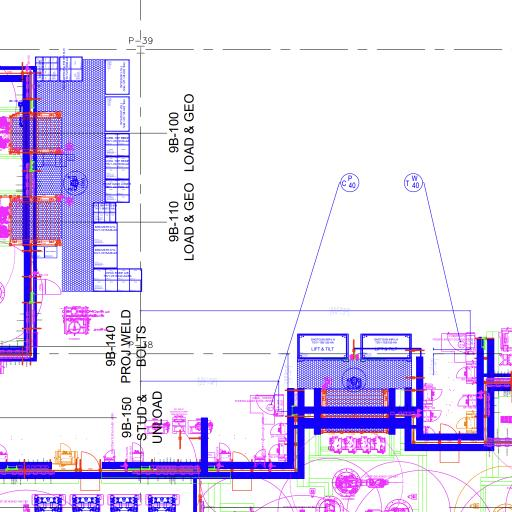robot: (330, 468, 390, 498)
